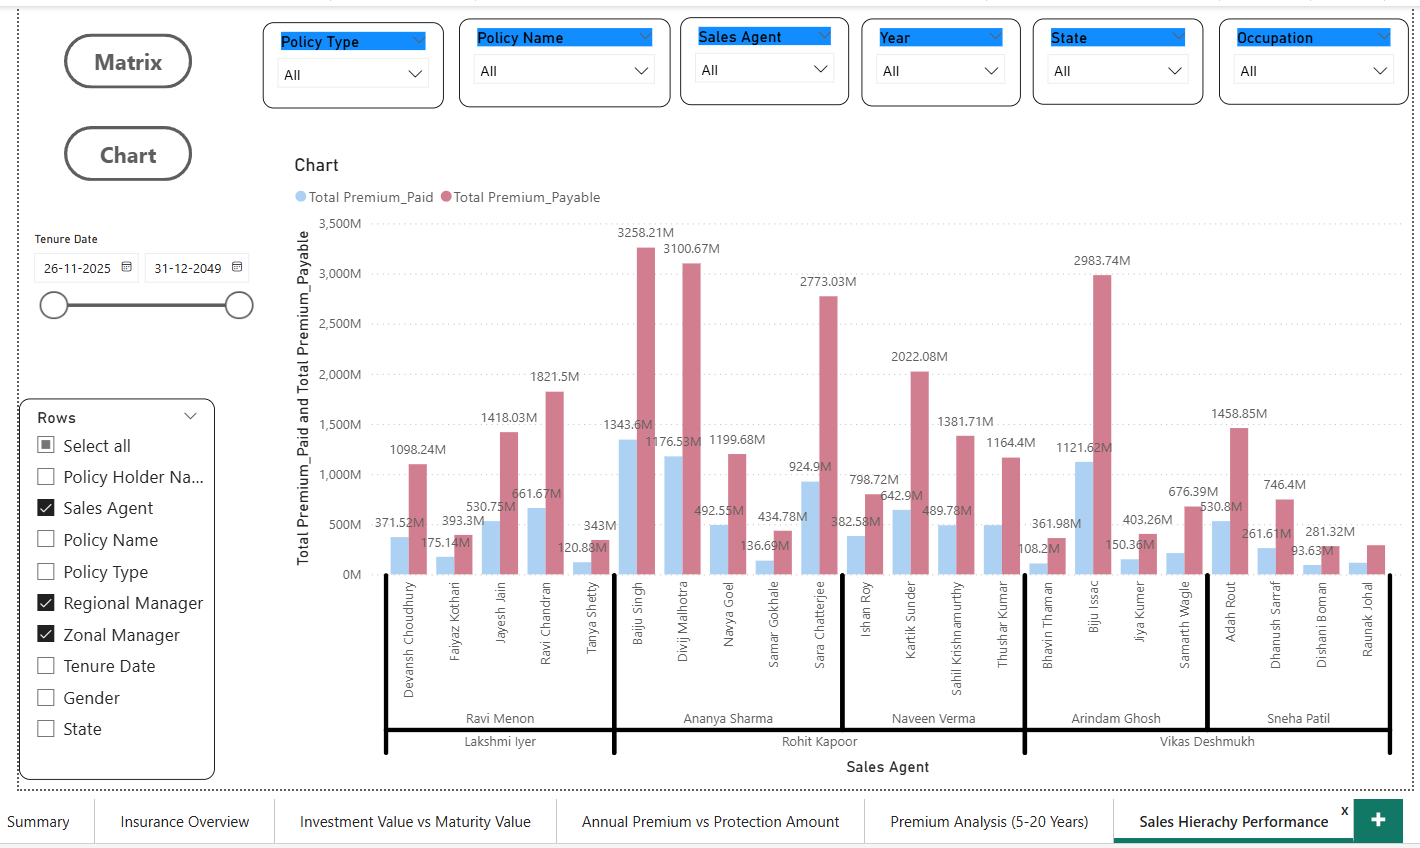

This screenshot's page, from the dashboard's own definition file:
{"tool":"powerbi","page":{"name":"Sales Hierachy Performance","canvas":[1280,720],"ordinal":5},"visuals":[{"type":"clusteredColumnChart","title":"Chart","fields":{"Category":["DM Zonal_Manager.Zonal Manager Name","DM Regional_Manager.Regional Manager Name","DM Insurance_Agent_Table.Sales Agent"],"Y":["Measure Table.Total Premium_Paid","Measure Table.Total Premium_Payable"]},"box":[248.1,135.4,1029.5,576.5],"z":0},{"type":"slicer","fields":{"Values":["DM Policy_Type.Policy Type"]},"box":[224.1,14.4,166.6,79.1],"z":1000,"group":"g1"},{"type":"group","id":"g1","title":"Slicer","box":[0,10.3,1277.2,701],"z":2000},{"type":"slicer","fields":{"Values":["DM Policy_Protection_Plan.Policy Name"]},"box":[403.9,12,194.2,81.5],"z":2000,"group":"g1"},{"type":"slicer","fields":{"Values":["DM Insurance_Agent_Table.Sales Agent"]},"box":[607.4,10.3,155.6,81],"z":3000,"group":"g1"},{"type":"actionButton","box":[41.7,25.4,117.8,50.7],"z":3000},{"type":"slicer","fields":{"Values":["FCT Insurance_Policy_Table.Year"]},"box":[774.1,11.9,146,81],"z":4000,"group":"g1"},{"type":"actionButton","box":[41.7,110.5,117.8,50.7],"z":4000},{"type":"slicer","fields":{"Values":["DM Customer_Detail_Table.State"]},"box":[931.2,11.9,157.1,79.4],"z":5000,"group":"g1"},{"type":"slicer","fields":{"Values":["DM Customer_Detail_Table.Occupation"]},"box":[1102.6,11.9,174.6,79.4],"z":6000,"group":"g1"},{"type":"slicer","fields":{"Values":["Parameter-Selecting Rows.Parameter-Selecting Rows"]},"box":[0,360.7,180.3,350.6],"z":7000,"group":"g1"},{"type":"slicer","fields":{"Values":["FCT Insurance_Policy_Table.Tenure Date"]},"box":[1.4,202,222.2,147.2],"z":8000,"group":"g1"}]}

Visuals, with their boxes on the page's 1280x720 design canvas (x1, y1, x2, y2). These are canvas units, not pixel positions in the 1420x848 screenshot, which may show the page scaled, cropped or inside an application window:
"Chart" clusteredColumnChart: left=248, top=135, right=1278, bottom=712
slicer - DM Policy_Type.Policy Type: left=224, top=14, right=391, bottom=94
"Slicer" group: left=0, top=10, right=1277, bottom=711
slicer - DM Policy_Protection_Plan.Policy Name: left=404, top=12, right=598, bottom=94
slicer - DM Insurance_Agent_Table.Sales Agent: left=607, top=10, right=763, bottom=91
actionButton: left=42, top=25, right=160, bottom=76
slicer - FCT Insurance_Policy_Table.Year: left=774, top=12, right=920, bottom=93
actionButton: left=42, top=110, right=160, bottom=161
slicer - DM Customer_Detail_Table.State: left=931, top=12, right=1088, bottom=91
slicer - DM Customer_Detail_Table.Occupation: left=1103, top=12, right=1277, bottom=91
slicer - Parameter-Selecting Rows.Parameter-Selecting Rows: left=0, top=361, right=180, bottom=711
slicer - FCT Insurance_Policy_Table.Tenure Date: left=1, top=202, right=224, bottom=349
